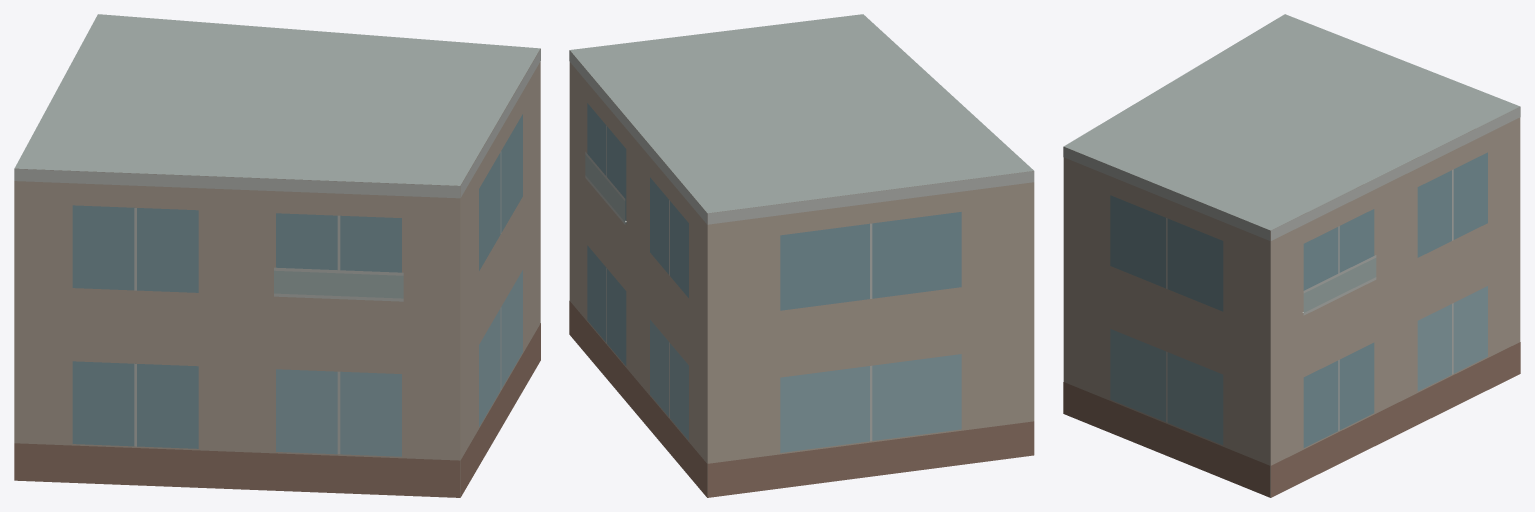
The model's file is survey-upis-32935183.glb.
3 views of the same model, side by side, from view 1: azimuth 30°, elevation 25°; view 2: azimuth 150°, elevation 25°; view 3: azimuth 270°, elevation 25° (orthographic). The views are drawn at different scales.
Parts seen in each view (by area): view 1: survey-upis-32935183.tmp; view 2: survey-upis-32935183.tmp; view 3: survey-upis-32935183.tmp.
Part boxes in pixels (x1=…): survey-upis-32935183.tmp: x1=14, y1=14, x2=540, y2=497; survey-upis-32935183.tmp: x1=569, y1=14, x2=1034, y2=497; survey-upis-32935183.tmp: x1=1063, y1=14, x2=1520, y2=497.
Size of the model in its own units: 10.61 by 6.1 by 9.46.
